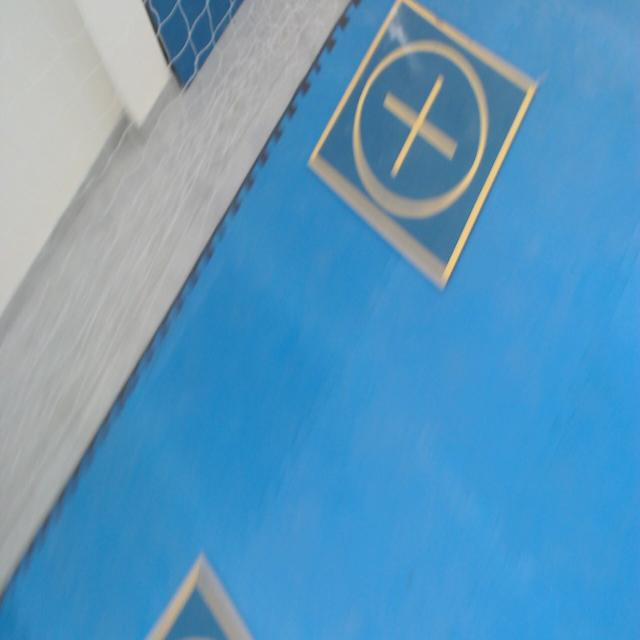base_pouso: (306, 0, 541, 294), (141, 552, 257, 639)
